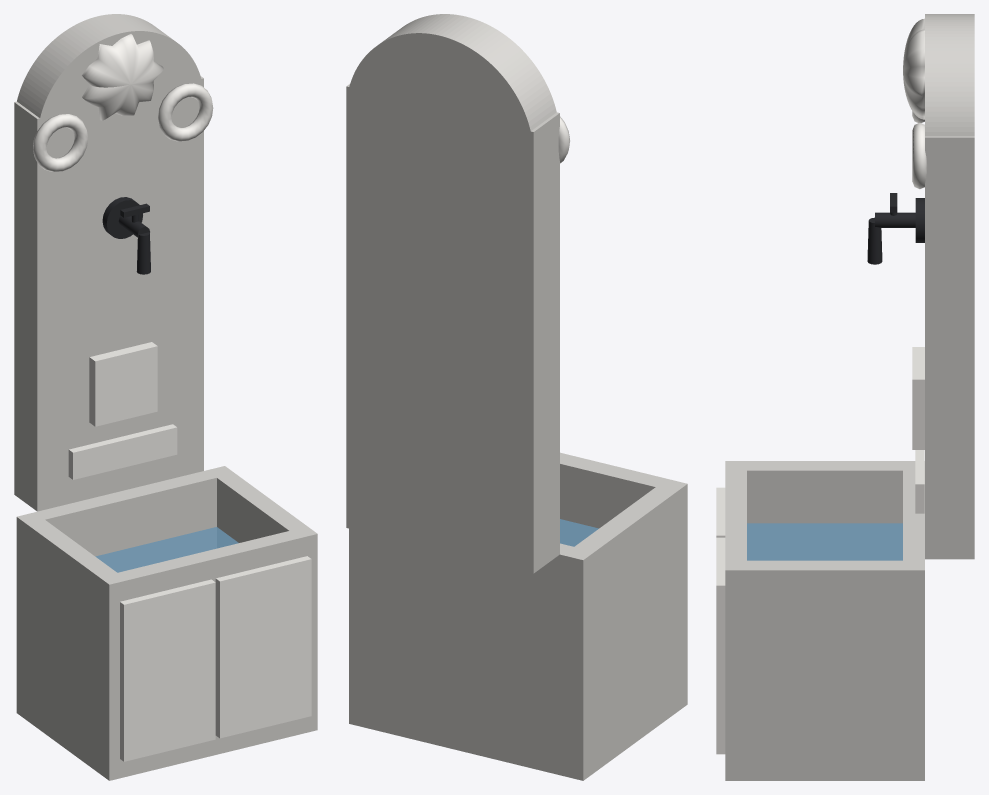
3 views of the same model, side by side, from view 1: azimuth 30°, elevation 25°; view 2: azimuth 150°, elevation 25°; view 3: azimuth 270°, elevation 25° (orthographic). The views are drawn at different scales.
Parts seen in each view (by area): view 1: panel-dalle, basin-flanc-g, basin-rustique-1, basin-rustique-0, panel-fronton, basin-face, basin-dos, panel-vase, panel-coquille, basin-flanc-d, panel-grecque, basin-fond (+5 smaller); view 2: panel-dalle, basin-dos, basin-flanc-g, panel-fronton, basin-face, basin-fond, basin-flanc-d, eau; view 3: basin-flanc-d, panel-dalle, basin-flanc-g, panel-fronton, basin-face, basin-dos, basin-fond, eau, basin-rustique-1, panel-coquille, panel-vase, panel-volute-1 (+4 smaller).
Boxes of the visible parts, bbox=[...] form: panel-dalle: bbox=[14, 76, 203, 511]; basin-flanc-g: bbox=[16, 516, 127, 778]; basin-rustique-1: bbox=[215, 556, 311, 738]; basin-rustique-0: bbox=[120, 579, 215, 761]; panel-fronton: bbox=[14, 14, 202, 173]; basin-face: bbox=[99, 526, 317, 780]; basin-dos: bbox=[16, 466, 228, 717]; panel-vase: bbox=[89, 342, 157, 426]; panel-coquille: bbox=[82, 34, 163, 120]; basin-flanc-d: bbox=[207, 466, 317, 732]; panel-grecque: bbox=[68, 424, 177, 479]; basin-fond: bbox=[17, 687, 317, 780]; panel-dalle: bbox=[346, 84, 559, 573]; basin-dos: bbox=[349, 529, 594, 780]; basin-flanc-g: bbox=[562, 482, 687, 779]; panel-fronton: bbox=[346, 14, 559, 190]; basin-face: bbox=[560, 452, 687, 708]; basin-fond: bbox=[349, 674, 687, 780]; basin-flanc-d: bbox=[349, 528, 369, 728]; eau: bbox=[560, 519, 598, 546]; basin-flanc-d: bbox=[725, 560, 924, 779]; panel-dalle: bbox=[925, 136, 974, 559]; basin-flanc-g: bbox=[728, 461, 915, 559]; panel-fronton: bbox=[925, 14, 974, 196]; basin-face: bbox=[725, 461, 746, 780]; basin-dos: bbox=[903, 461, 924, 780]; basin-fond: bbox=[725, 751, 924, 780]; eau: bbox=[747, 523, 902, 560]; basin-rustique-1: bbox=[716, 537, 725, 754]; panel-coquille: bbox=[903, 18, 924, 119]; panel-vase: bbox=[912, 347, 924, 449]; panel-volute-1: bbox=[912, 122, 927, 189].
Bounding box in the file's own units: 0.4 × 1.2 × 0.4.
